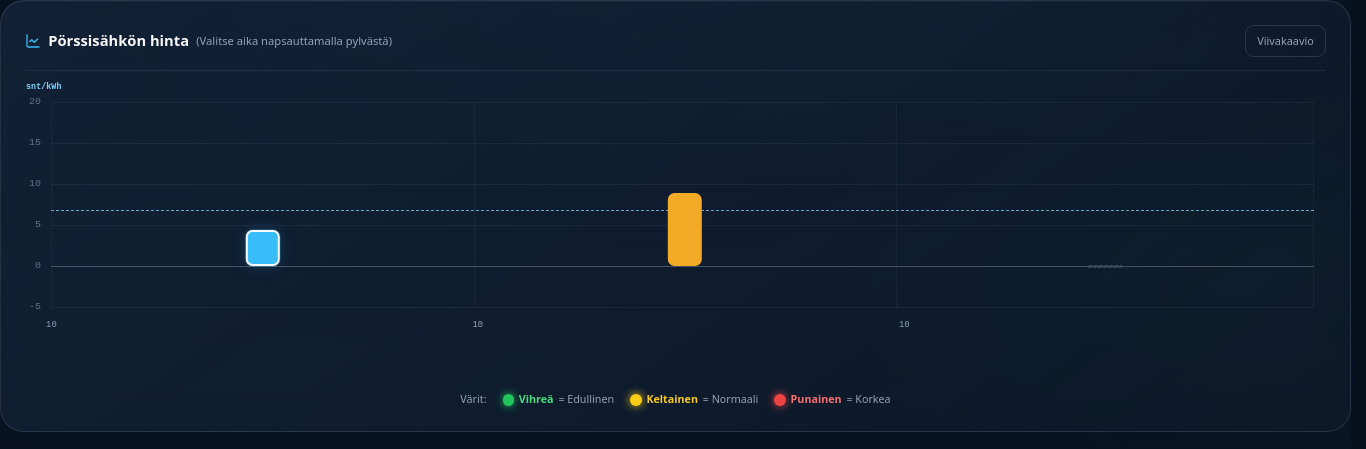
Test: marks unavailable intervals after the line ends
Click the button "Viivakaavio".
click(1285, 41)  # box [1245, 25, 1326, 57]
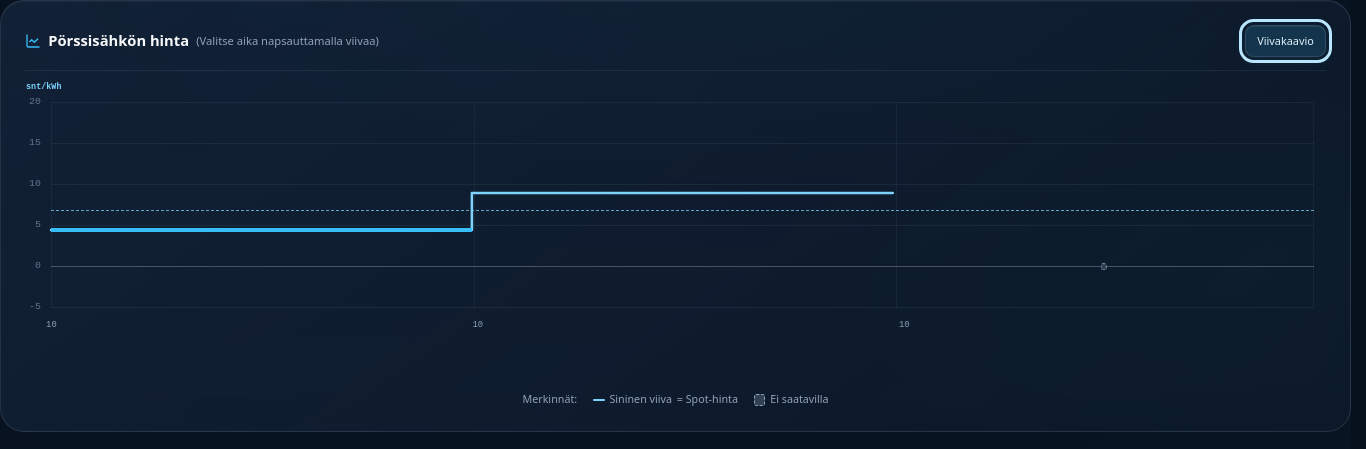
Expected: the text "Ei saatavilla" is shown, [770, 392, 828, 407]
